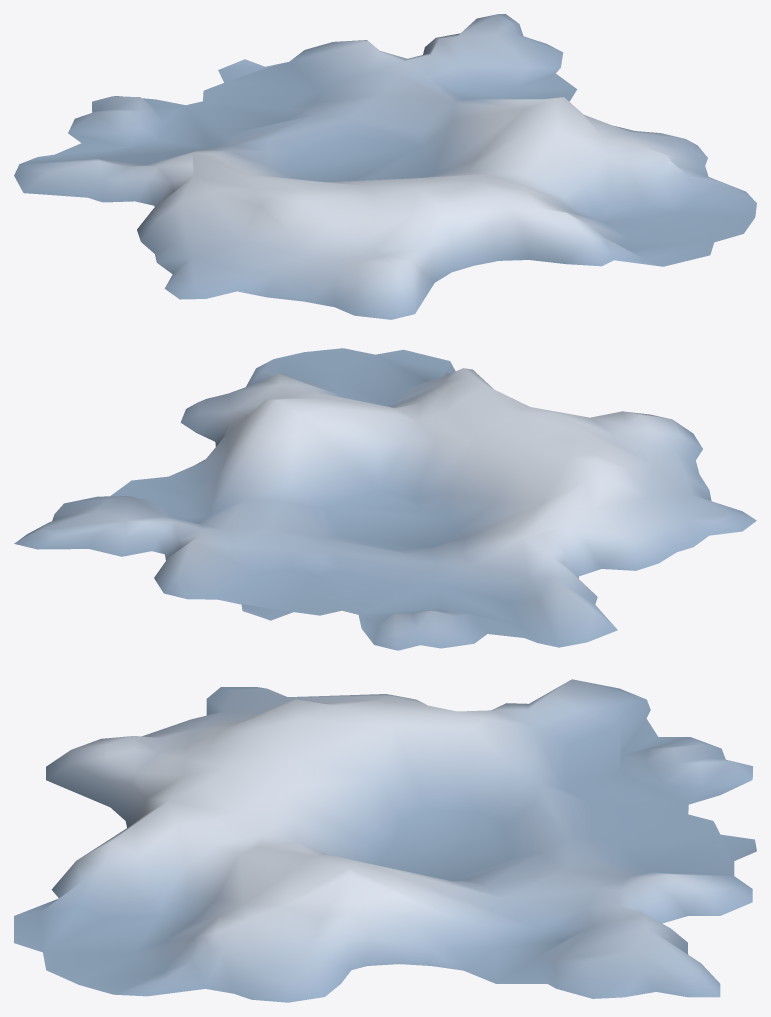
Rendered from Pile_of_snow_03.fbx.
The picture shows the model from 3 angles, top to bottom: view 1: azimuth 30°, elevation 25°; view 2: azimuth 150°, elevation 25°; view 3: azimuth 270°, elevation 25°; orthographic projection. The views are drawn at different scales.
Visible parts, largest first — view 1: Pile_of_snow_03; view 2: Pile_of_snow_03; view 3: Pile_of_snow_03.
Part boxes in pixels (x1,y1,x2,y2): Pile_of_snow_03: [14, 14, 756, 319]; Pile_of_snow_03: [14, 348, 756, 650]; Pile_of_snow_03: [14, 679, 756, 1002].
Bounding box in the file's own units: 276 × 27.24 × 271.
